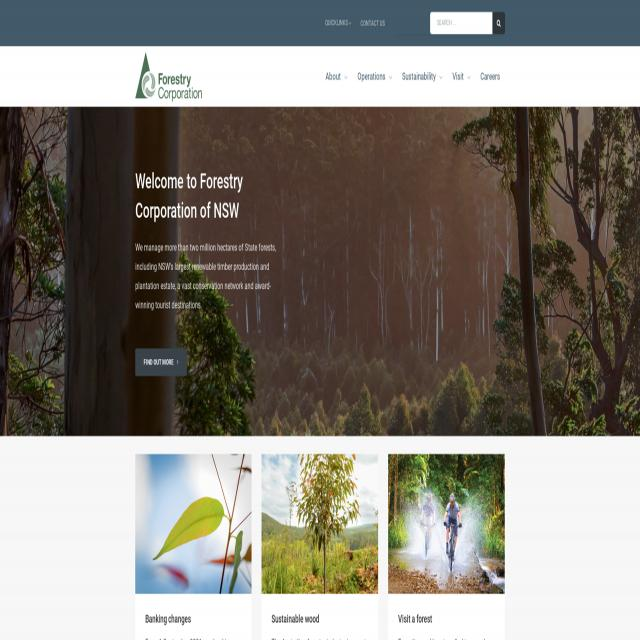button: (388, 454, 505, 594), (262, 454, 378, 594), (135, 455, 251, 593), (135, 52, 202, 101), (397, 51, 447, 102), (353, 51, 397, 102), (320, 51, 352, 102), (475, 51, 505, 102), (135, 348, 187, 376), (447, 51, 475, 102), (357, 8, 391, 38), (322, 8, 354, 38), (492, 12, 505, 34)
field: (430, 12, 492, 34)
